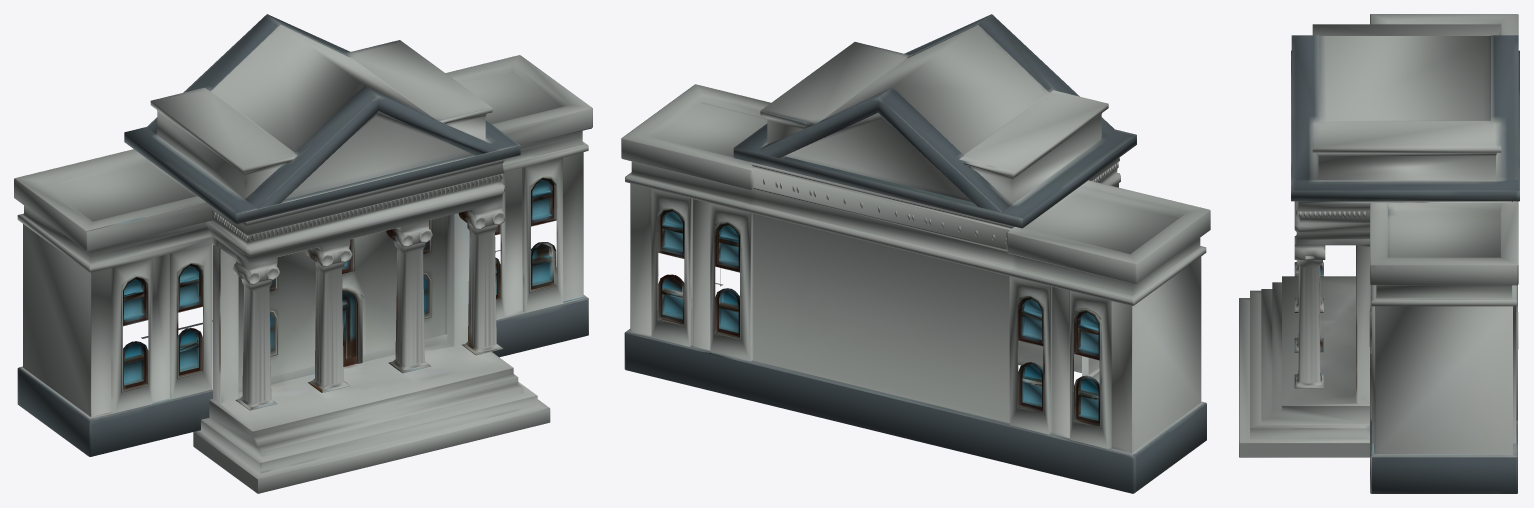
The model's file is kantor_pemerintah_1.glb.
3 renders of one model, left to right at view 1: azimuth 30°, elevation 25°; view 2: azimuth 150°, elevation 25°; view 3: azimuth 270°, elevation 25°, orthographic.
Visible parts, largest first — view 1: tripo_node_67bc15fa; view 2: tripo_node_67bc15fa; view 3: tripo_node_67bc15fa.
Part boxes in pixels (x1,y1,x2,y2): tripo_node_67bc15fa: [14, 14, 592, 493]; tripo_node_67bc15fa: [621, 14, 1210, 493]; tripo_node_67bc15fa: [1239, 14, 1519, 493].
Bounding box in the file's own units: 1 × 0.6489 × 0.4717.
Materials: 1 (1 with a texture image).
